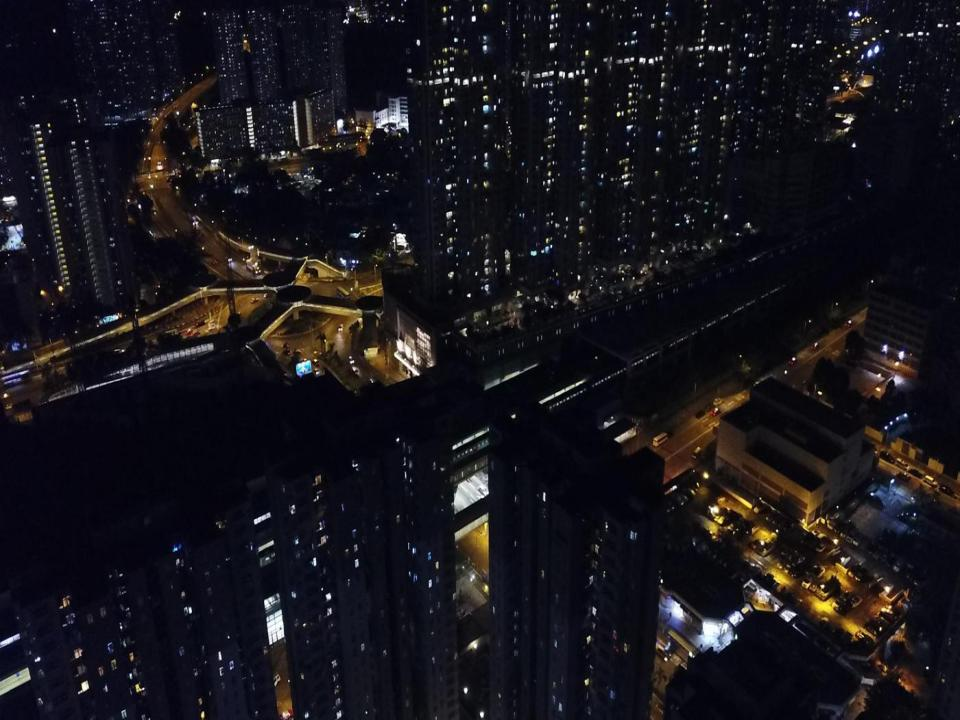bus: (642, 625, 672, 661), (652, 430, 669, 447), (336, 284, 350, 302)
car: (855, 629, 874, 648), (837, 631, 853, 650), (865, 620, 882, 637), (879, 450, 896, 465), (816, 616, 830, 633), (831, 626, 845, 641), (939, 482, 953, 497), (880, 606, 894, 620), (876, 615, 890, 629), (832, 595, 845, 610), (907, 468, 923, 480), (802, 574, 814, 589), (787, 354, 798, 366), (695, 408, 706, 419), (292, 348, 305, 357), (712, 396, 723, 406), (196, 317, 206, 328), (710, 406, 720, 416), (844, 318, 854, 328), (810, 341, 821, 350), (223, 254, 233, 262), (311, 358, 320, 366), (282, 349, 292, 356), (250, 296, 259, 303), (338, 322, 344, 332), (282, 342, 290, 348), (212, 257, 218, 264)
truck: (245, 257, 262, 274)
van: (895, 457, 910, 471), (923, 474, 937, 489), (691, 446, 702, 459)
